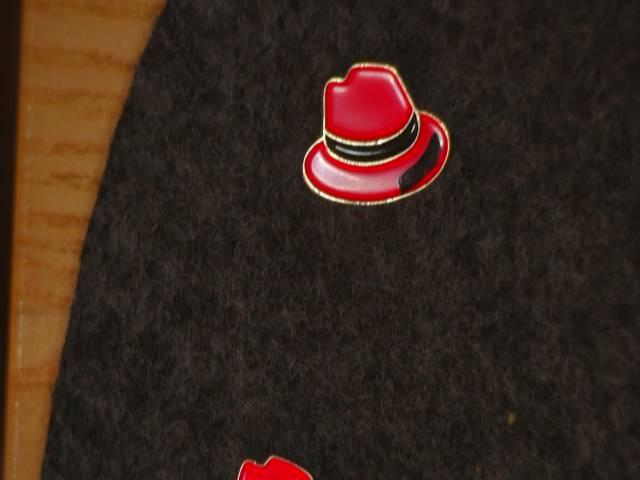Red-Hat: (290, 48, 485, 271)
Scratch: (385, 124, 453, 207)
